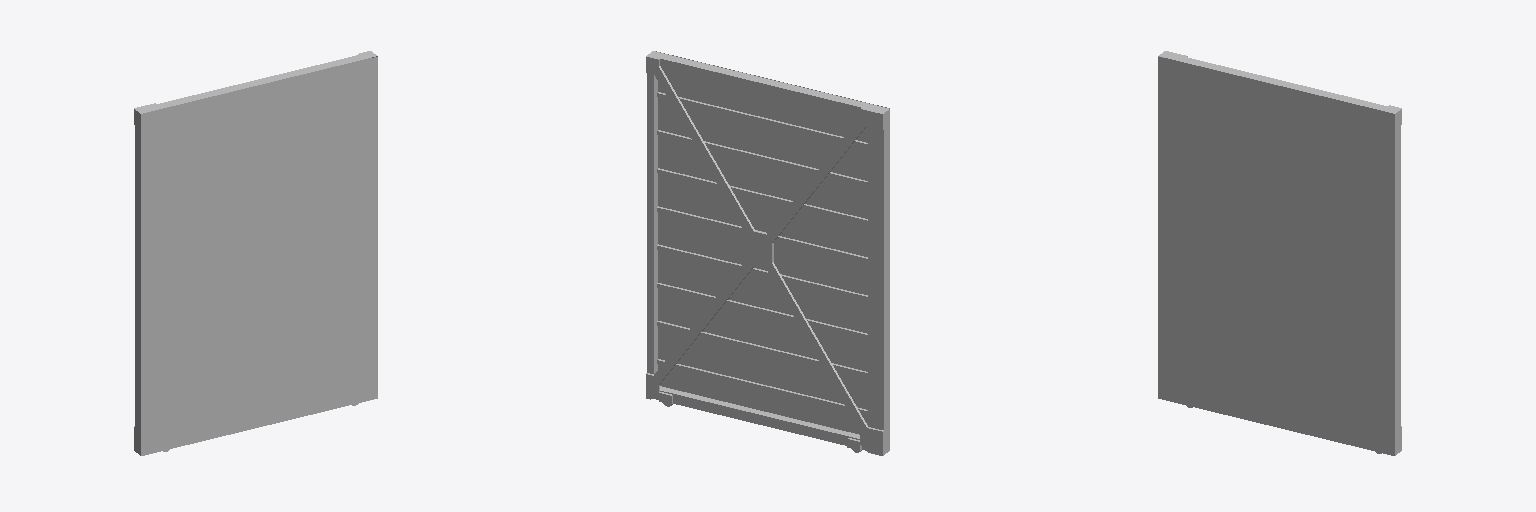
The model's file is f_door_r4.obj.
The picture shows the model from 3 angles: view 1: azimuth 30°, elevation 25°; view 2: azimuth 150°, elevation 25°; view 3: azimuth 330°, elevation 25°; orthographic projection.
Bounding box in the file's own units: 1073 × 1502 × 62.18.